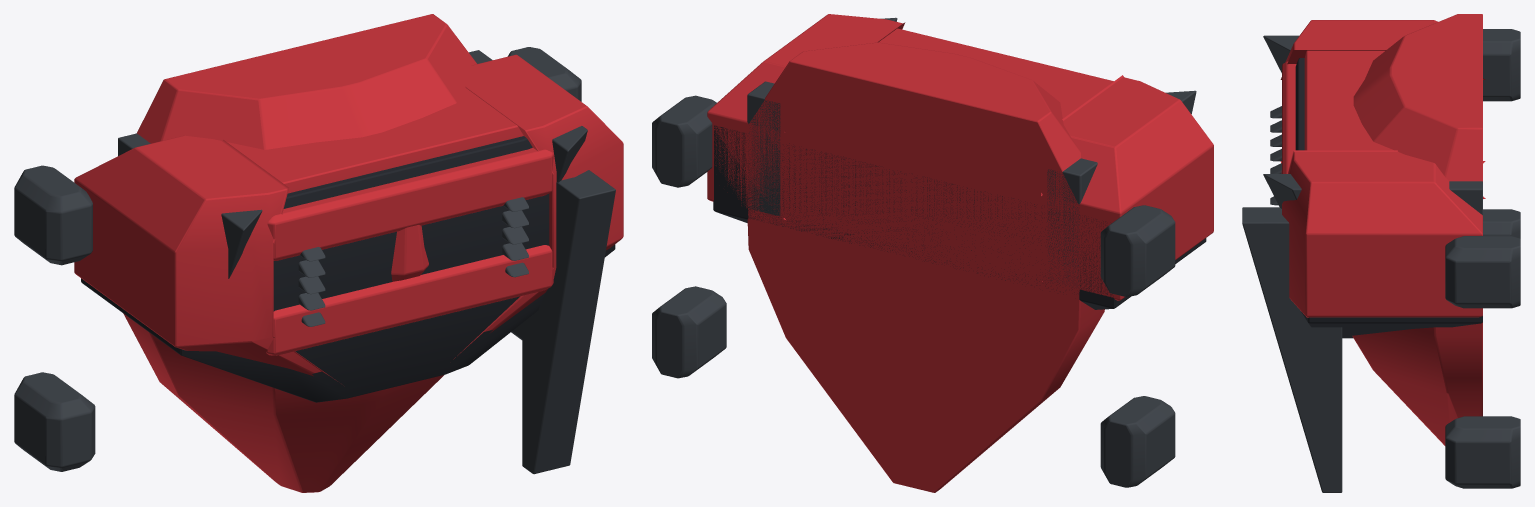
The model's file is LowerArmFront_Set04_Ripjaw.fbx.
3 views of the same model, side by side, from view 1: azimuth 30°, elevation 25°; view 2: azimuth 150°, elevation 25°; view 3: azimuth 270°, elevation 25° (orthographic). The views are drawn at different scales.
Visible parts, largest first — view 1: LowerArmFront_Set04_Ripjaw; view 2: LowerArmFront_Set04_Ripjaw; view 3: LowerArmFront_Set04_Ripjaw.
Part boxes in pixels (x1,y1,x2,y2): LowerArmFront_Set04_Ripjaw: (14, 14, 623, 492); LowerArmFront_Set04_Ripjaw: (652, 14, 1213, 492); LowerArmFront_Set04_Ripjaw: (1242, 14, 1520, 492).
Size of the model in its own units: 0.43 by 0.33 by 0.2217.
